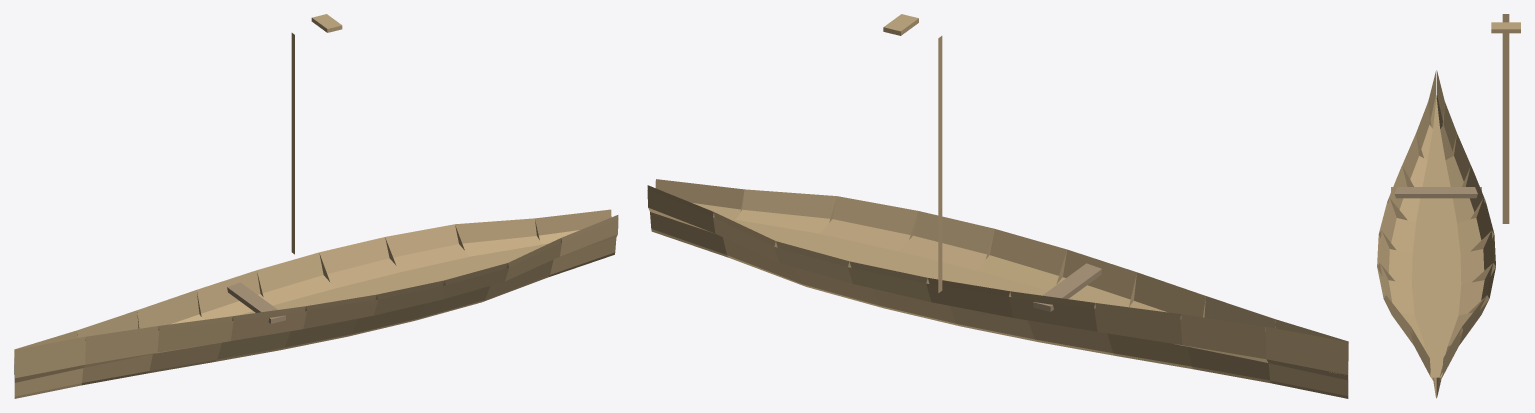
Rendered from grotto_canoe_LOD0_roblox.fbx.
The picture shows the model from 3 angles, left to right: view 1: azimuth 30°, elevation 25°; view 2: azimuth 150°, elevation 25°; view 3: azimuth 270°, elevation 25°; orthographic projection. The views are drawn at different scales.
Parts seen in each view (by area): view 1: canoe_Hull, canoe_Paddle, canoe_Seat; view 2: canoe_Hull, canoe_Paddle, canoe_Seat; view 3: canoe_Hull, canoe_Paddle, canoe_Seat.
Boxes of the visible parts, x1,y1,x2,y2 form: canoe_Hull: (14, 209, 618, 398); canoe_Paddle: (291, 14, 342, 254); canoe_Seat: (227, 282, 285, 323); canoe_Hull: (647, 179, 1348, 398); canoe_Paddle: (883, 14, 942, 292); canoe_Seat: (1033, 263, 1101, 311); canoe_Hull: (1377, 70, 1495, 398); canoe_Paddle: (1491, 14, 1520, 223); canoe_Seat: (1391, 187, 1481, 198).
Bounding box in the file's own units: 8 × 1.74 × 3.63.
